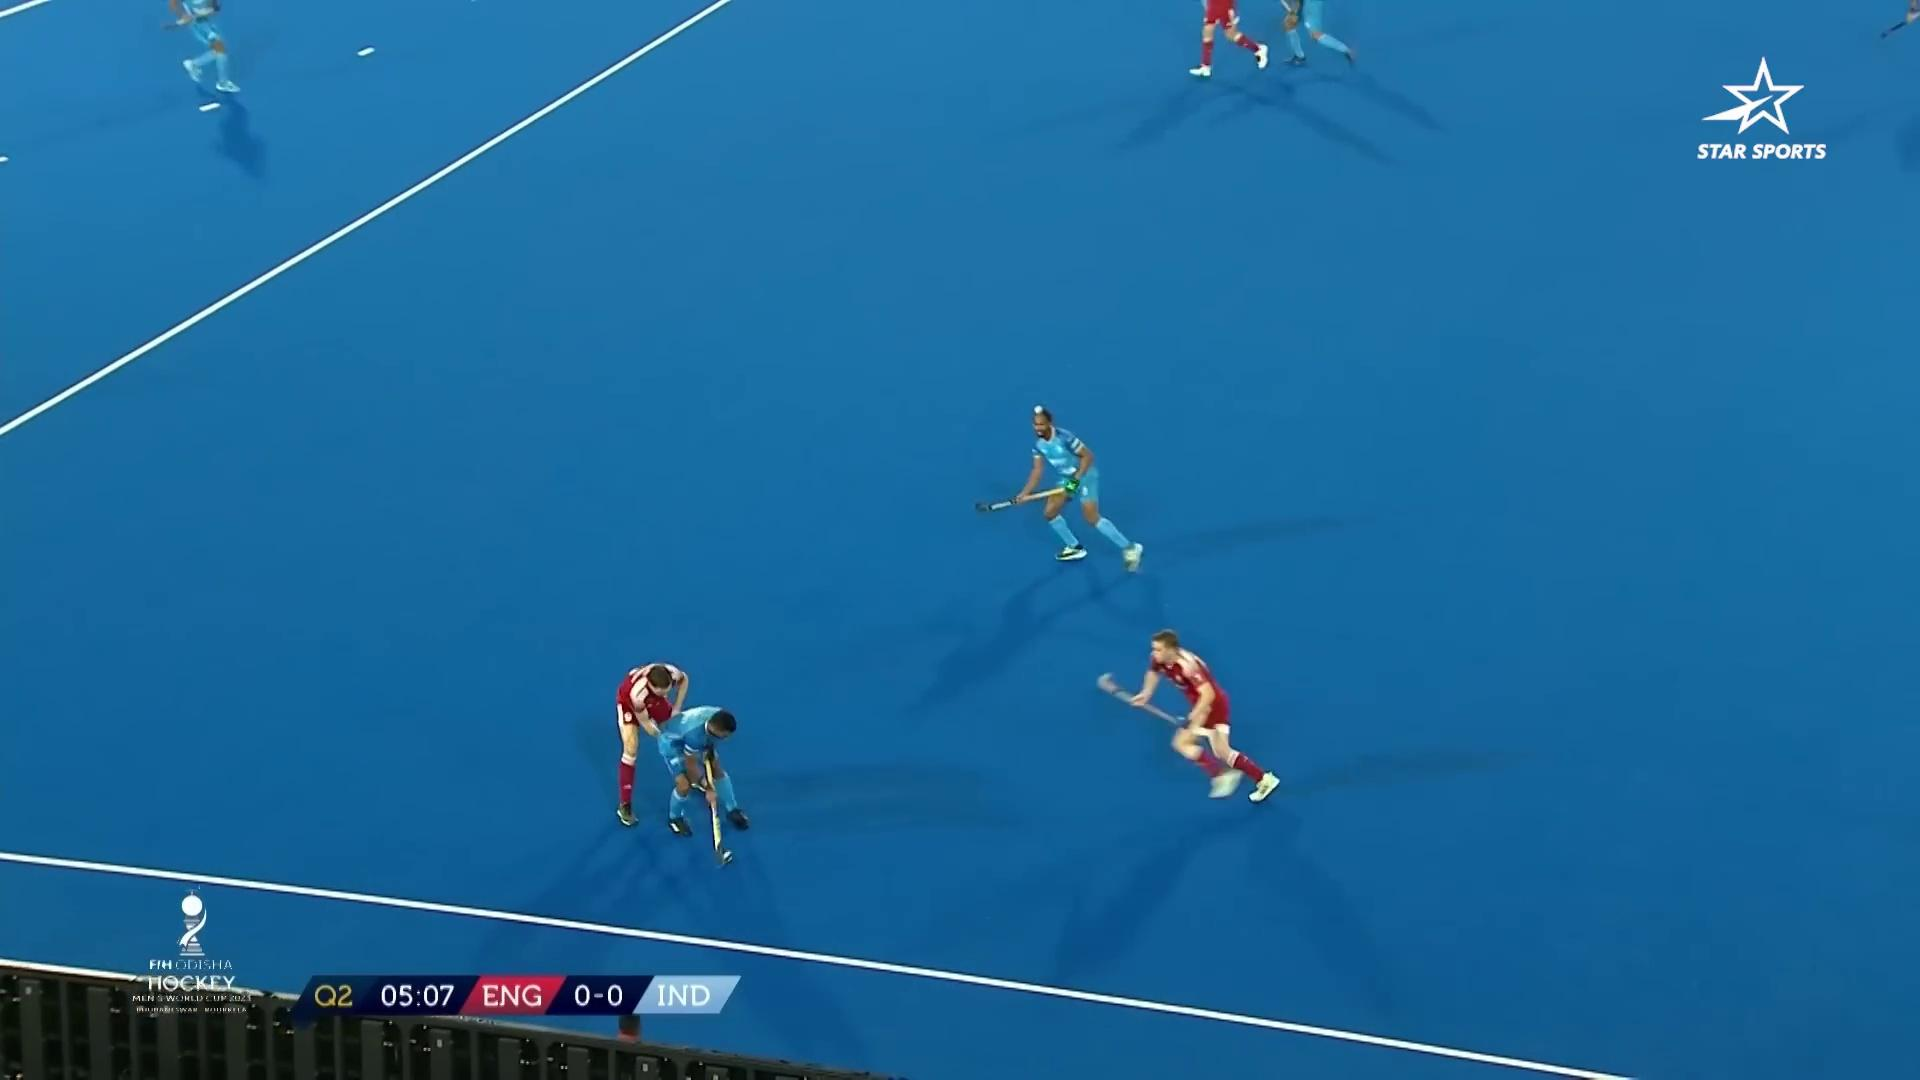ball: (705, 839, 737, 877)
